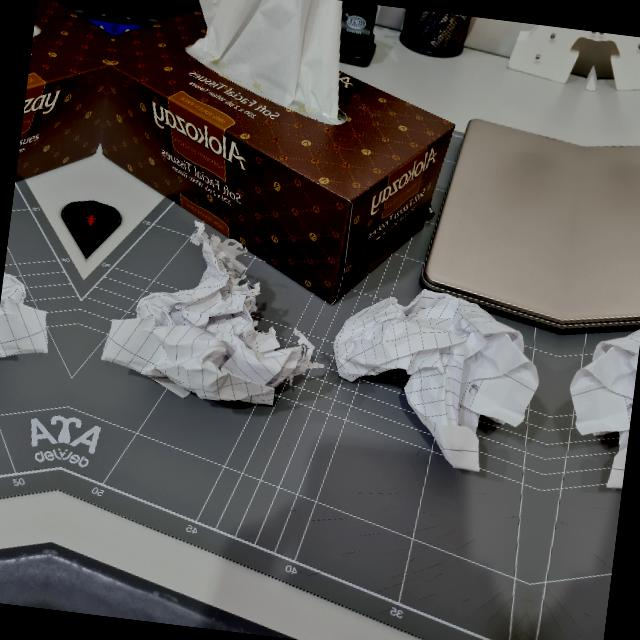paper: (91, 205, 328, 432), (323, 272, 552, 470), (556, 301, 640, 482), (0, 192, 69, 401)
